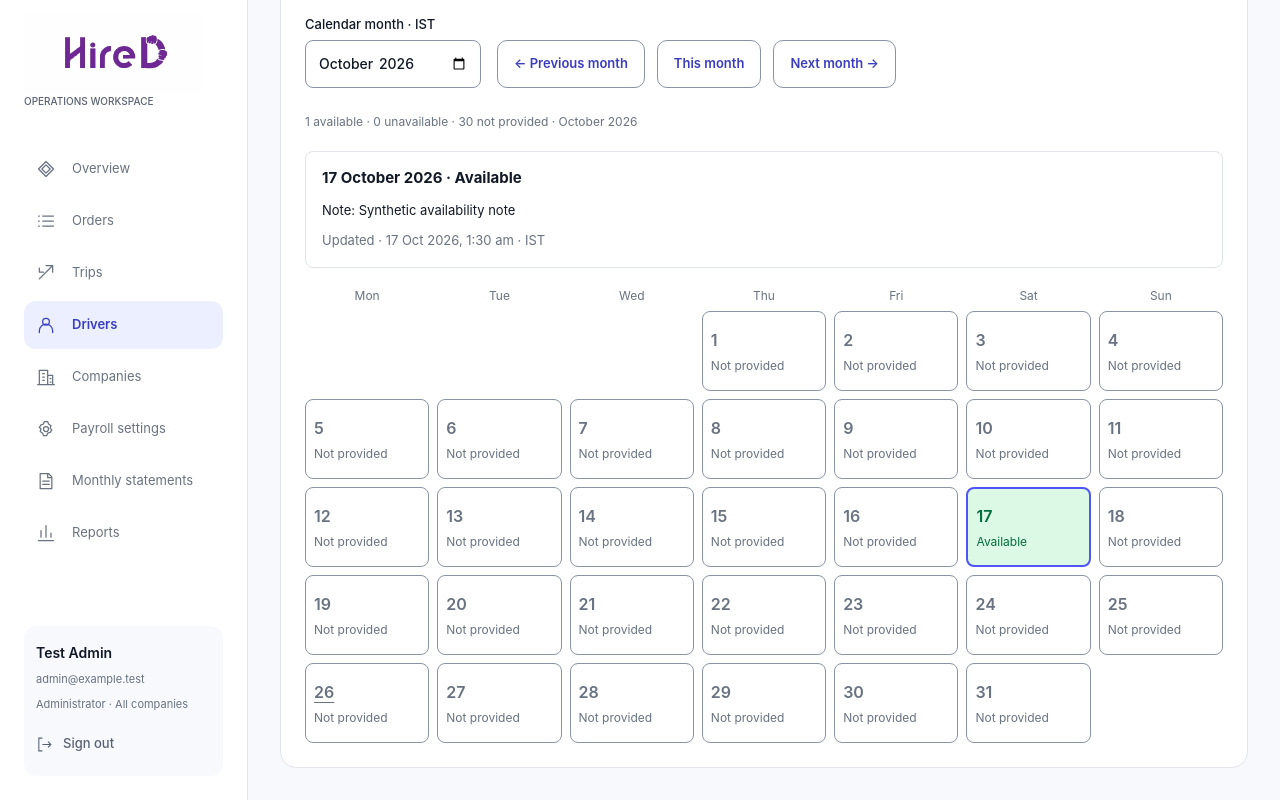
Test: calendar screen states › shows selected date notes and distinguishes missing availability from unavailable
The image size is (1280, 800).
(page scrolled)
expect the heading "17 October 2026 · Available" is shown: met, box [322,168,522,187]
expect the text "1 available · 0 unavailable · 30 not provided · October 2026" is shown: met, box [305,114,638,129]
What coordinates should you click on to do the following:
click the button with aria-label "18 October 2026 · Not provided"
I would click on:
 (1161, 527)
Its box is [1099,487,1223,567].
(page scrolled)
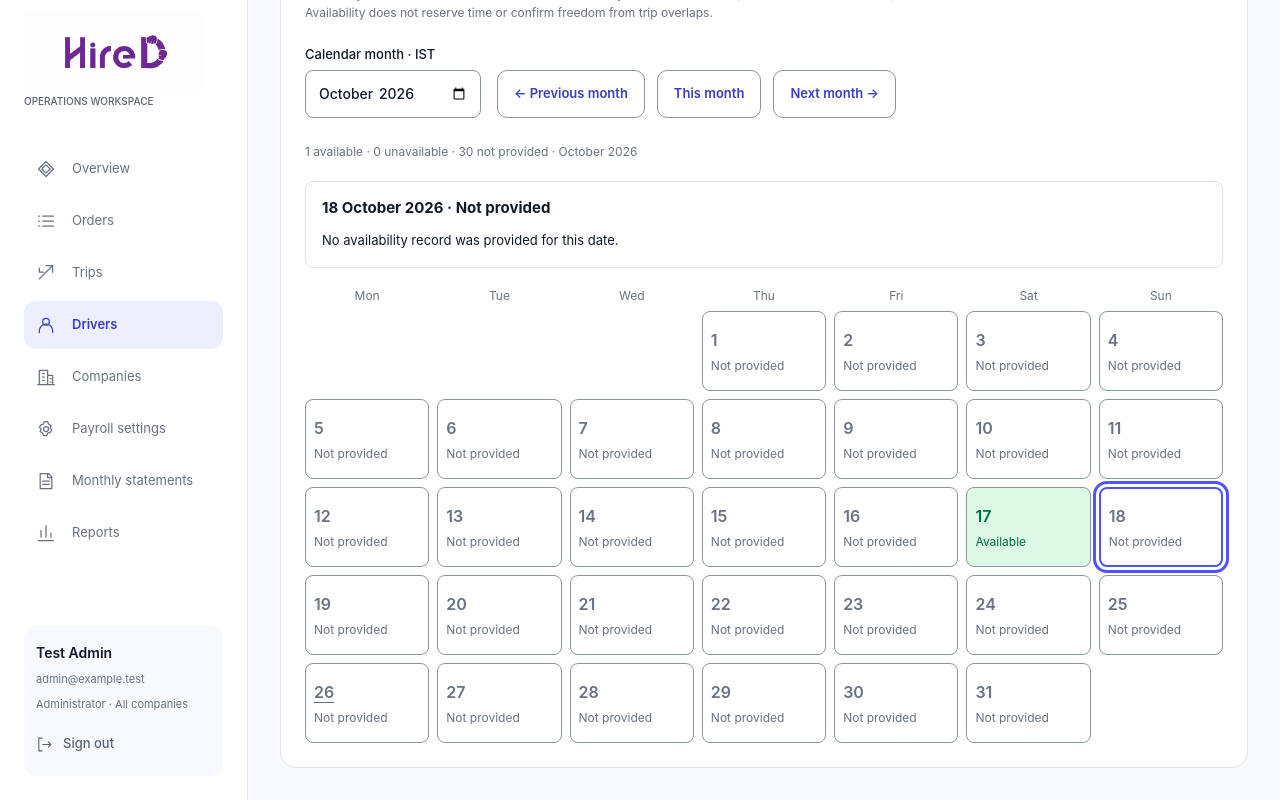
expect the heading "18 October 2026 · Not provided" is shown: met, box [322,198,550,217]
expect the text "No availability record was provided for this date." is shown: met, box [322,232,618,248]
